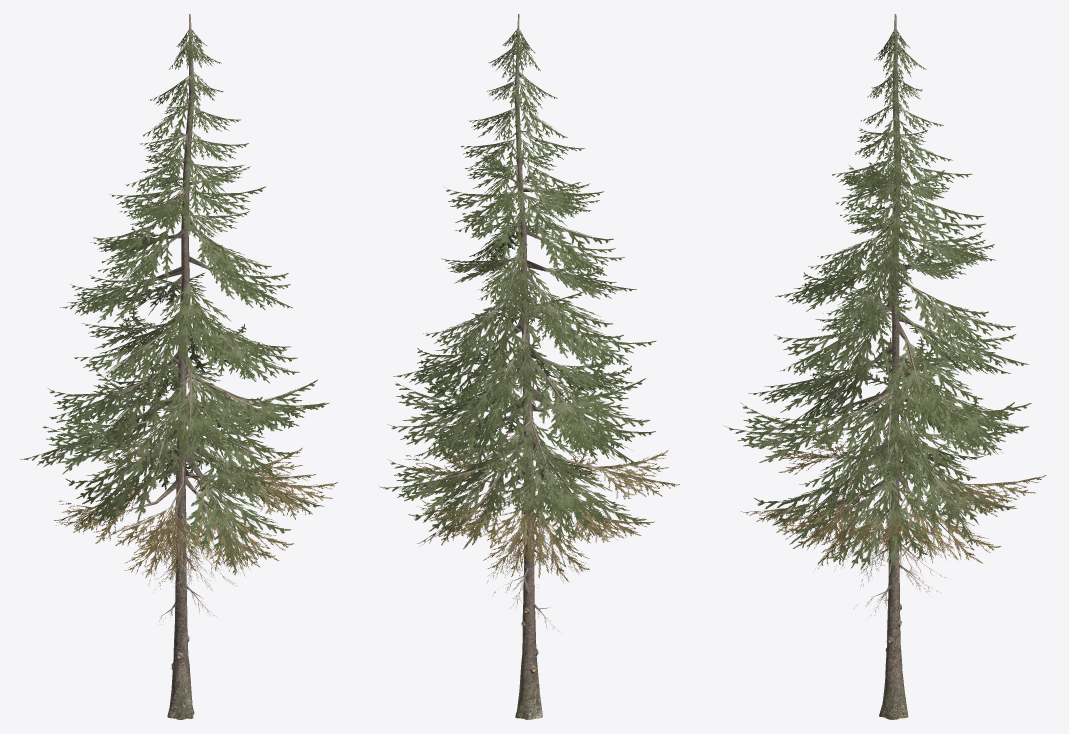
File: spruce1_LOD1.fbx
3 renders of one model, left to right at view 1: azimuth 30°, elevation 25°; view 2: azimuth 150°, elevation 25°; view 3: azimuth 270°, elevation 25°, orthographic.
Parts seen in each view (by area): view 1: spruce 2_1, spruce 1_0; view 2: spruce 2_1, spruce 1_0; view 3: spruce 2_1, spruce 1_0.
Boxes of the visible parts, x1,y1,x2,y2 form: spruce 2_1: (20,29,337,624); spruce 1_0: (94,14,276,719); spruce 2_1: (379,29,679,632); spruce 1_0: (433,14,609,719); spruce 2_1: (724,30,1046,615); spruce 1_0: (807,14,980,719).
Size of the model in its own units: 837 by 2028 by 883.
Materials: 2 (2 with a texture image).
